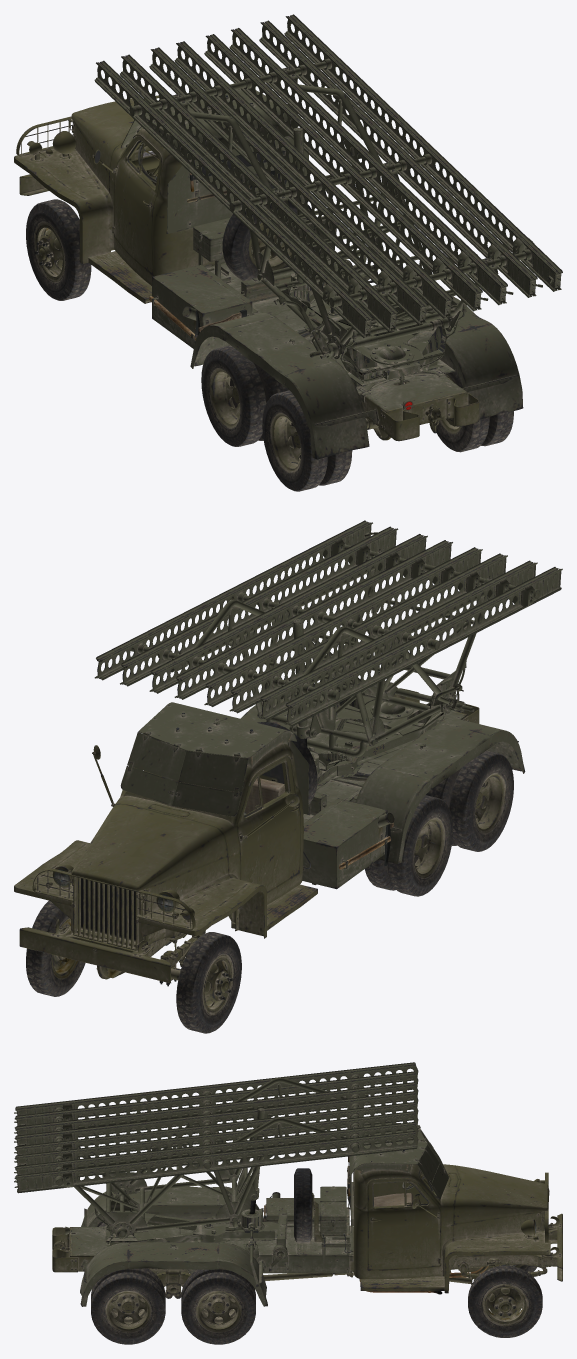
Rendered from bm-13_katyusha_hd.glb.
3 views of the same model, one above another, from view 1: azimuth 30°, elevation 25°; view 2: azimuth 150°, elevation 25°; view 3: azimuth 270°, elevation 25° (orthographic). The views are drawn at different scales.
Parts seen in each view (by area): view 1: gun_0, hull_0, chassis_1, turret_0, chassis_0; view 2: hull_0, gun_0, chassis_1, chassis_0, turret_0; view 3: hull_0, gun_0, chassis_1, chassis_0, turret_0.
Part boxes in pixels (left/top/right/bottom): gun_0: left=94, top=14, right=562, bottom=381; hull_0: left=14, top=89, right=523, bottom=459; chassis_1: left=26, top=199, right=513, bottom=491; turret_0: left=279, top=256, right=446, bottom=386; chassis_0: left=34, top=222, right=461, bottom=473; hull_0: left=14, top=688, right=525, bottom=983; gun_0: left=94, top=520, right=562, bottom=757; chassis_1: left=26, top=750, right=513, bottom=1033; chassis_0: left=51, top=773, right=505, bottom=1014; turret_0: left=295, top=684, right=443, bottom=790; hull_0: left=52, top=1122, right=562, bottom=1306; gun_0: left=14, top=1062, right=418, bottom=1244; chassis_1: left=91, top=1220, right=542, bottom=1344; chassis_0: left=105, top=1262, right=547, bottom=1332; turret_0: left=105, top=1190, right=277, bottom=1287.
Bounding box in the file's own units: 1.24 × 1.44 × 3.4.
5 materials, 5 textured.
